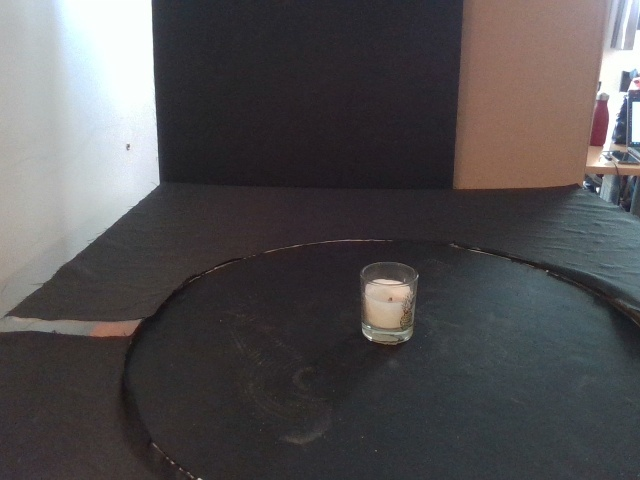candle: (358, 261, 420, 344)
